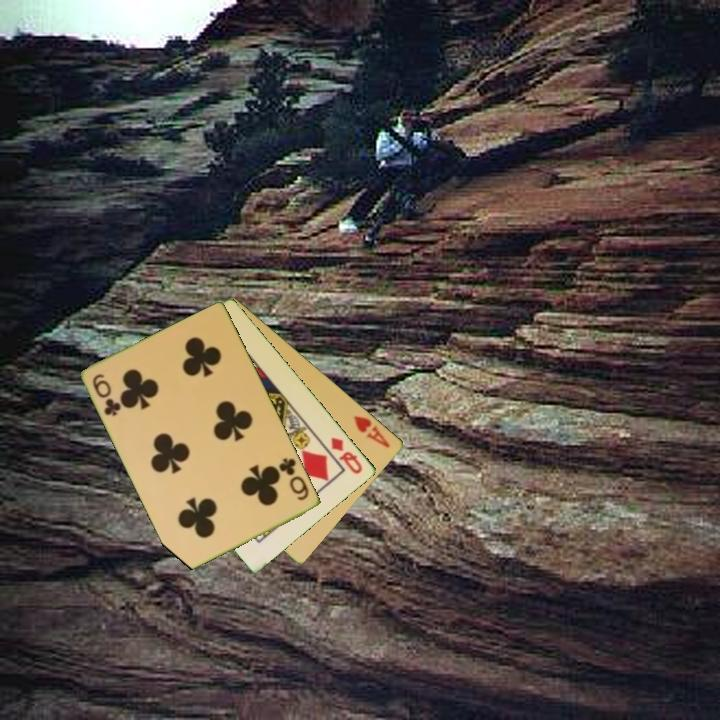6c: (276, 454, 312, 504), (89, 370, 124, 420)
Ah: (351, 412, 393, 451)
Qd: (328, 434, 366, 477)
